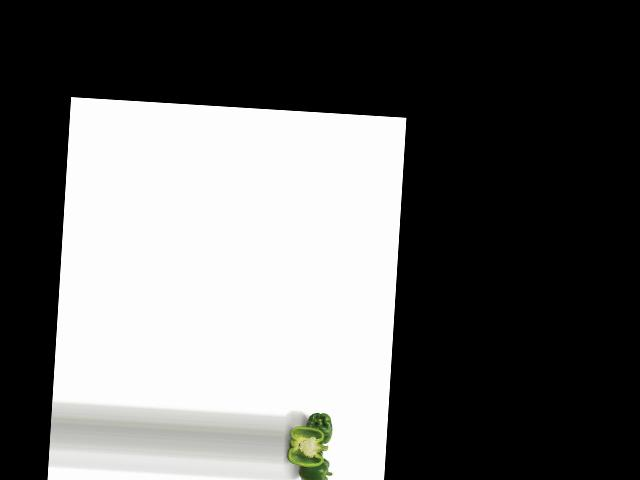bell_pepper: (301, 409, 336, 447)
